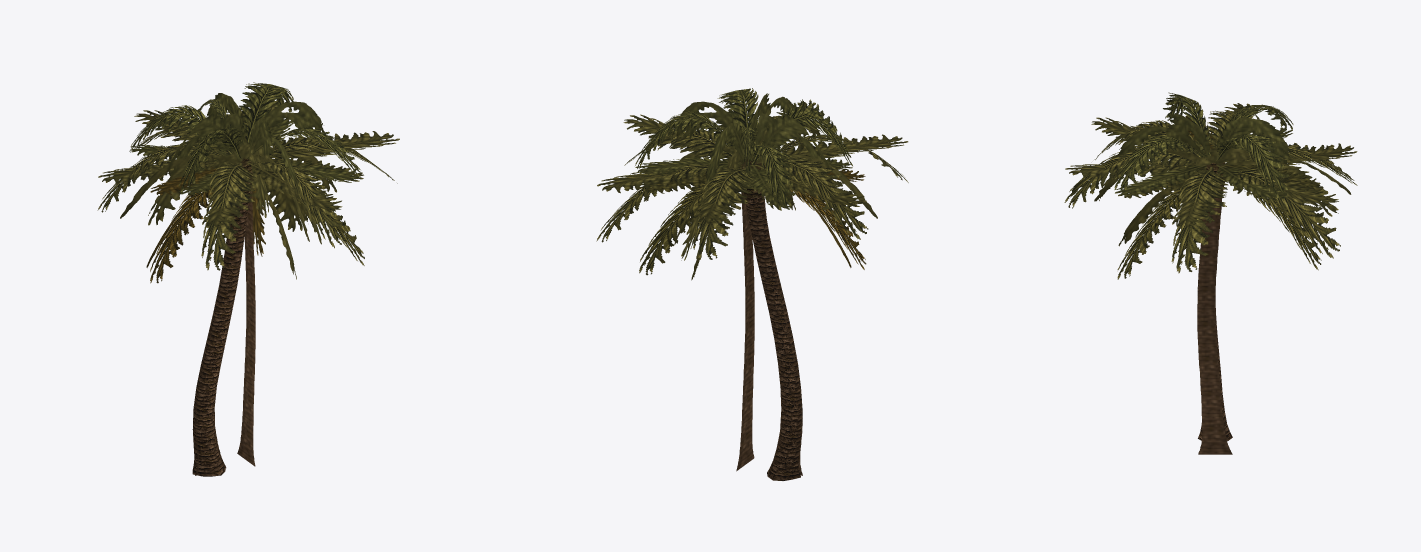
File: Palmeira_Curva.glb
3 renders of one model, left to right at view 1: azimuth 30°, elevation 25°; view 2: azimuth 150°, elevation 25°; view 3: azimuth 270°, elevation 25°, orthographic. The views are drawn at different scales.
Parts seen in each view (by area): view 1: Palmeira_Curva impostor, Folhas abertas, Caule, Folhas novas, Folhas inferiores; view 2: Palmeira_Curva impostor, Folhas abertas, Caule, Folhas novas, Folhas inferiores; view 3: Palmeira_Curva impostor, Folhas abertas, Folhas novas, Folhas inferiores, Caule.
Boxes of the visible parts, x1=… form: Palmeira_Curva impostor: x1=98, y1=93, x2=399, y2=475; Folhas abertas: x1=97, y1=121, x2=397, y2=270; Caule: x1=192, y1=193, x2=249, y2=476; Folhas novas: x1=129, y1=82, x2=361, y2=193; Folhas inferiores: x1=150, y1=179, x2=364, y2=283; Palmeira_Curva impostor: x1=597, y1=93, x2=908, y2=475; Folhas abertas: x1=596, y1=116, x2=908, y2=259; Caule: x1=745, y1=196, x2=802, y2=480; Folhas novas: x1=635, y1=88, x2=852, y2=210; Folhas inferiores: x1=639, y1=184, x2=866, y2=275; Palmeira_Curva impostor: x1=1065, y1=103, x2=1357, y2=454; Folhas abertas: x1=1064, y1=110, x2=1357, y2=273; Folhas novas: x1=1114, y1=92, x2=1293, y2=199; Folhas inferiores: x1=1117, y1=178, x2=1321, y2=279; Caule: x1=1197, y1=198, x2=1232, y2=441.
Size of what is drawn, in the model's own units: 9.76 by 9.76 by 9.76.
Materials: 3 (3 with a texture image).
